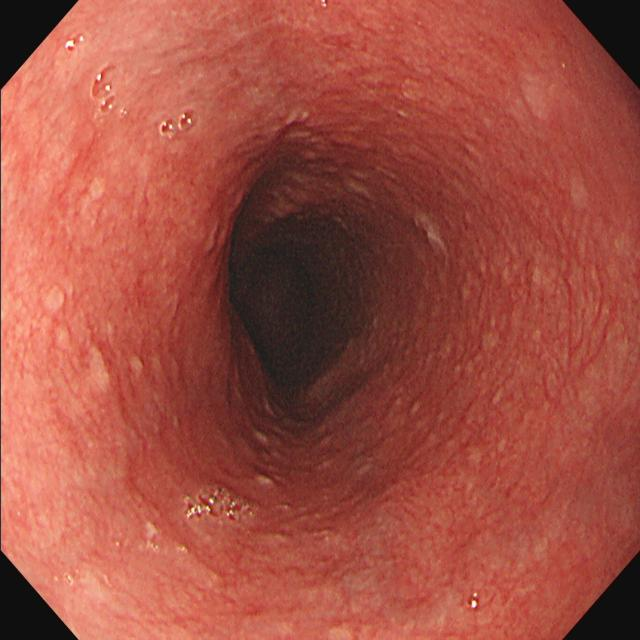A: (289, 445, 477, 590)
E: (229, 222, 362, 394)
T: (184, 484, 260, 526), (91, 63, 120, 117), (159, 108, 197, 141), (465, 589, 482, 611)
